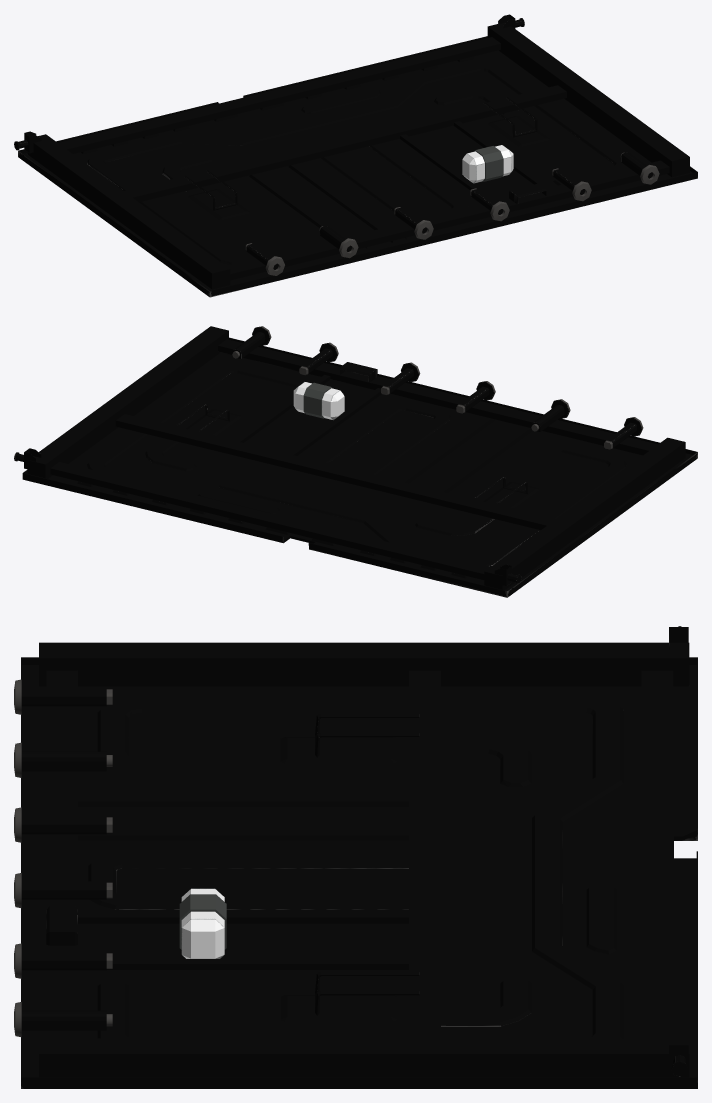
Rendered from houkao2.FBX.
The picture shows the model from 3 angles, top to bottom: view 1: azimuth 30°, elevation 25°; view 2: azimuth 150°, elevation 25°; view 3: azimuth 270°, elevation 25°; orthographic projection. The views are drawn at different scales.
Visible parts, largest first — view 1: YF_Model_houkao2; view 2: YF_Model_houkao2; view 3: YF_Model_houkao2.
Part boxes in pixels (box(x1,y1,x2,y2)): YF_Model_houkao2: box(14, 14, 697, 297); YF_Model_houkao2: box(14, 326, 697, 597); YF_Model_houkao2: box(14, 626, 697, 1088).
Bounding box in the file's own units: 216 × 11.71 × 143.
